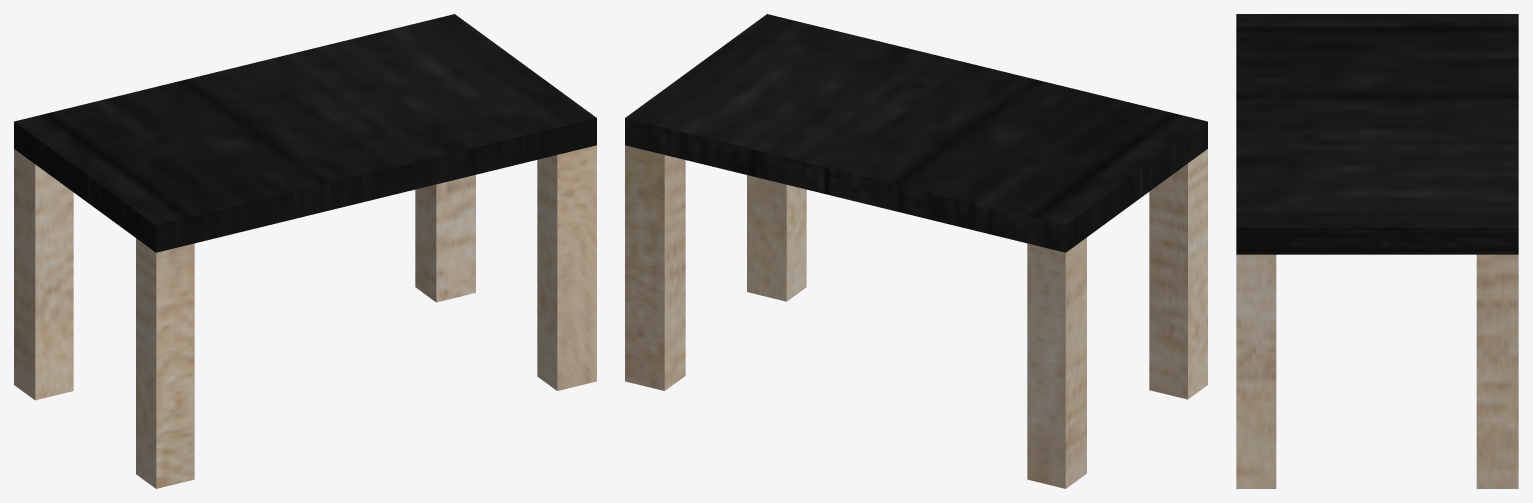
Rendered from nightstand.fbx.
The picture shows the model from 3 angles, left to right: view 1: azimuth 30°, elevation 25°; view 2: azimuth 150°, elevation 25°; view 3: azimuth 270°, elevation 25°; orthographic projection.
Parts seen in each view (by area): view 1: Nightstand Top, Nightstand Legs; view 2: Nightstand Top, Nightstand Legs; view 3: Nightstand Top, Nightstand Legs.
Boxes of the visible parts, x1,y1,x2,y2 form: Nightstand Top: (14, 14, 596, 252); Nightstand Legs: (14, 145, 596, 488); Nightstand Top: (625, 14, 1207, 252); Nightstand Legs: (625, 145, 1207, 488); Nightstand Top: (1236, 14, 1518, 254); Nightstand Legs: (1236, 254, 1518, 488).
Bounding box in the file's own units: 200 × 114 × 112.
1 material, 1 textured.
